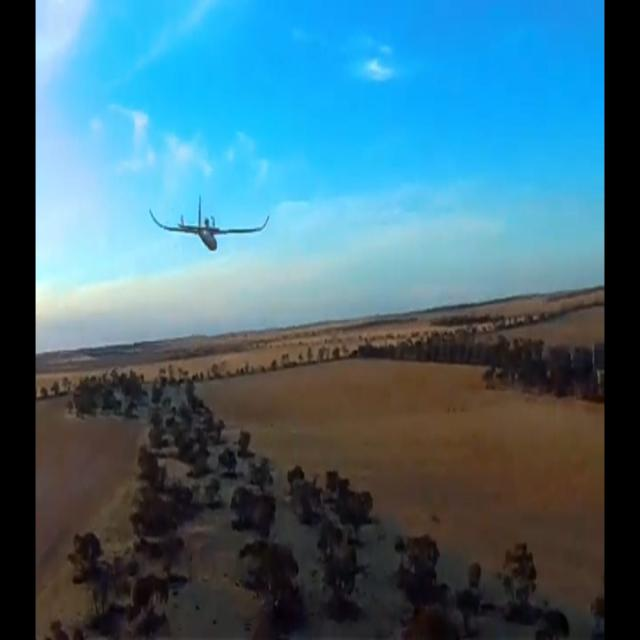iha: (181, 193, 238, 254)
